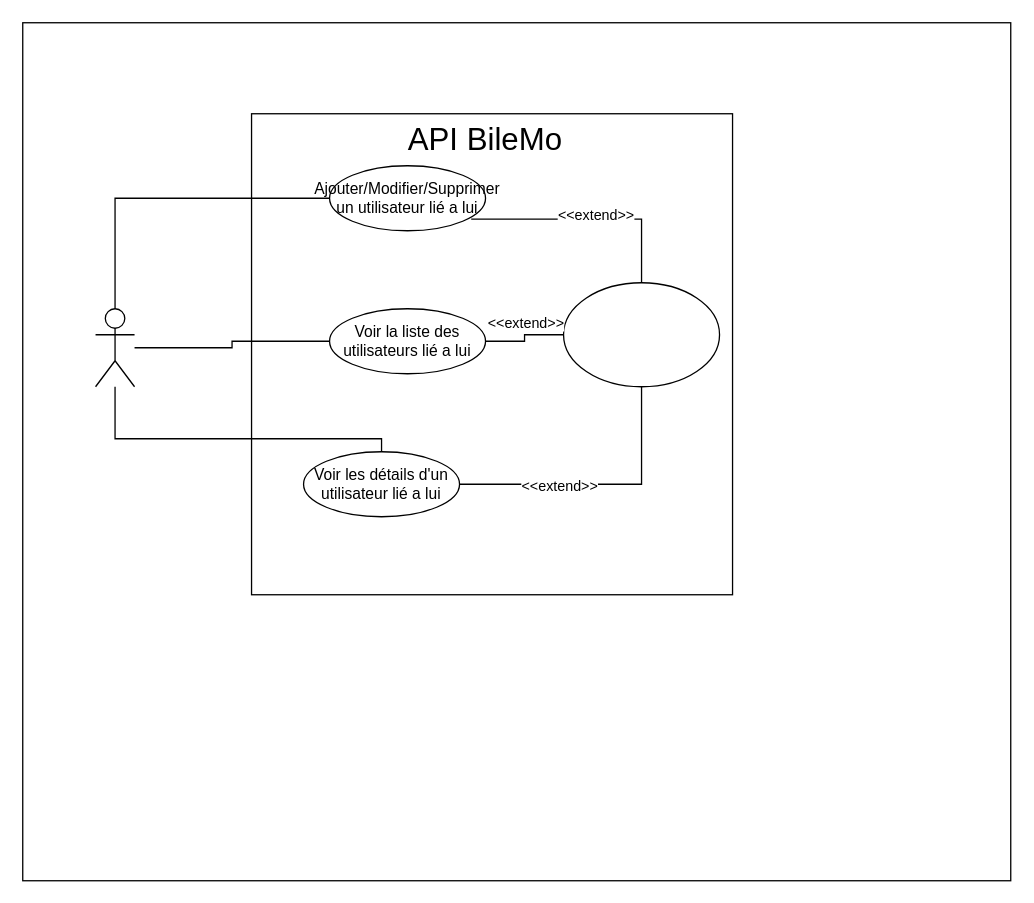
Image size: 1034x903. Some labels were removed from this diagram. The shapes that lost their labels are listed below. From the top down, each one's box as (x1, y1, x2, y2) in pixels, then its label:
(94, 307, 135, 387): Client
(562, 281, 720, 387): S'authentifier
